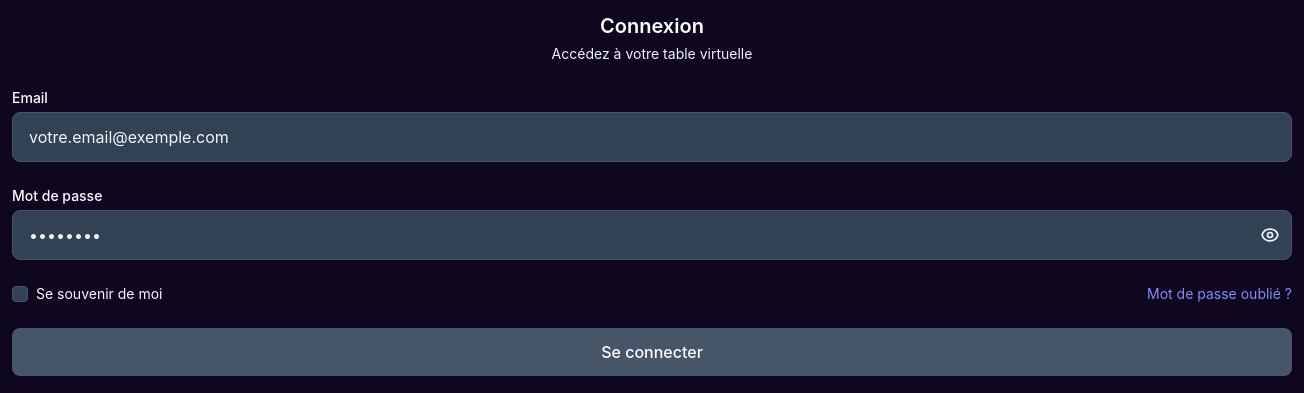
LoginForm.vue › should enable submit button when form is valid
Type "test@example.com" into the field with id "email" at (652, 137), box [12,112,1292,162]
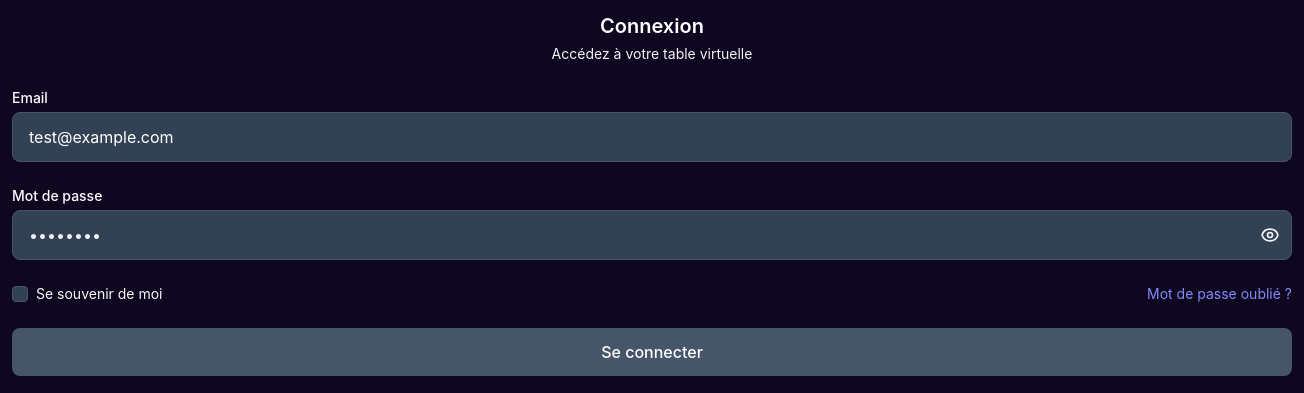
Type "password123" into the password field labelled "Mot de passe" at (652, 235), box [12,210,1292,260]
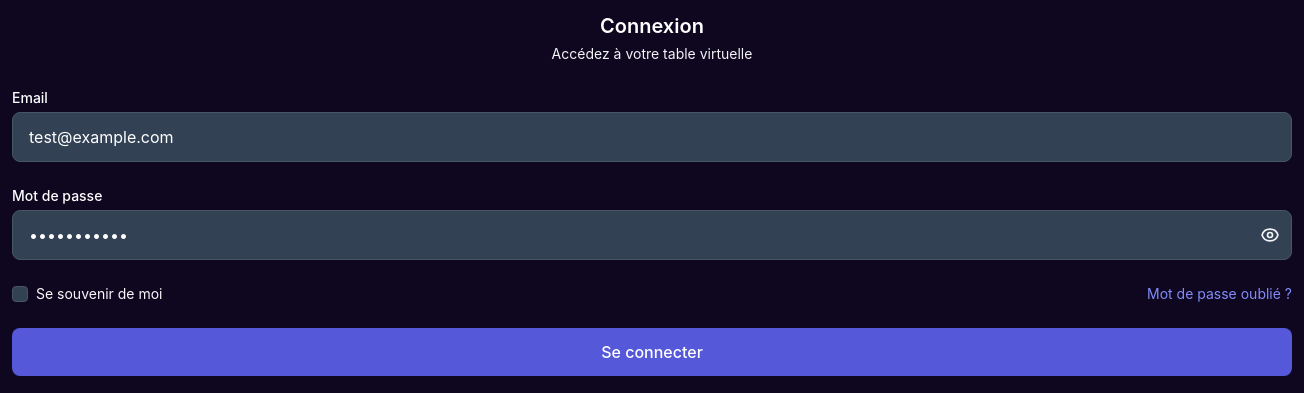
Now the submit button is enabled, box [12,328,1292,376]
